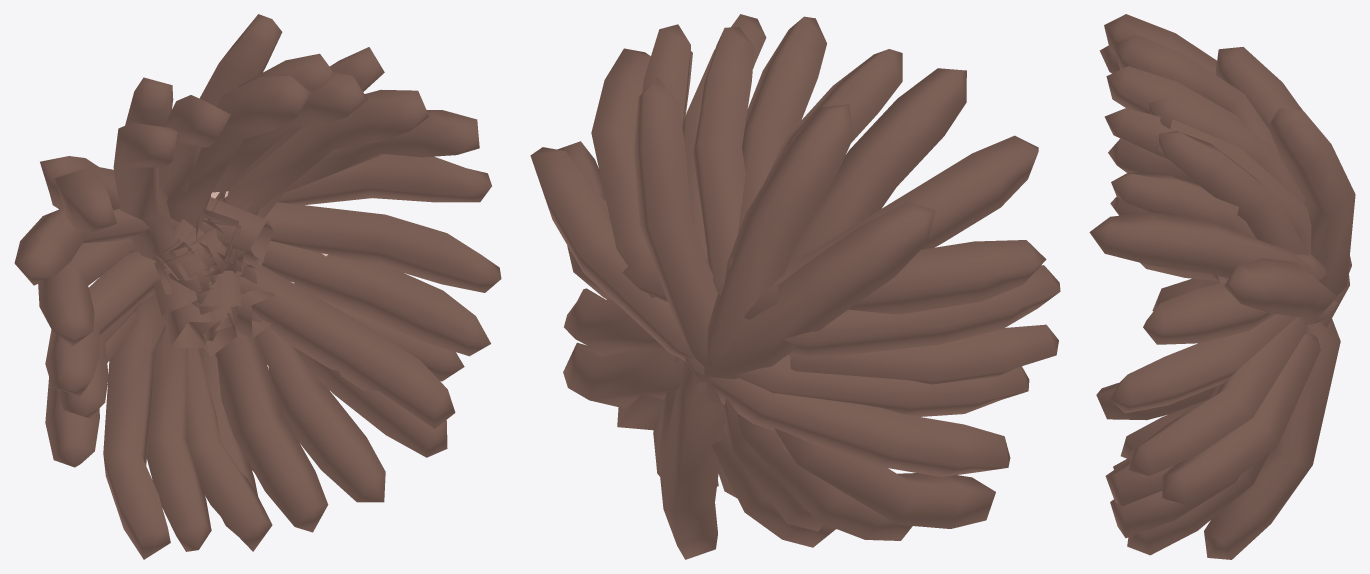
Rendered from hair.glb.
3 views of the same model, side by side, from view 1: azimuth 30°, elevation 25°; view 2: azimuth 150°, elevation 25°; view 3: azimuth 270°, elevation 25° (orthographic). The views are drawn at different scales.
Parts seen in each view (by area): view 1: hair; view 2: hair; view 3: hair.
Boxes of the visible parts, bbox=[...] form: hair: bbox=[14, 14, 501, 559]; hair: bbox=[530, 14, 1060, 559]; hair: bbox=[1089, 14, 1355, 559].
Size of the model in its own units: 0.701 by 0.694 by 0.3587.
1 material, 1 textured.
